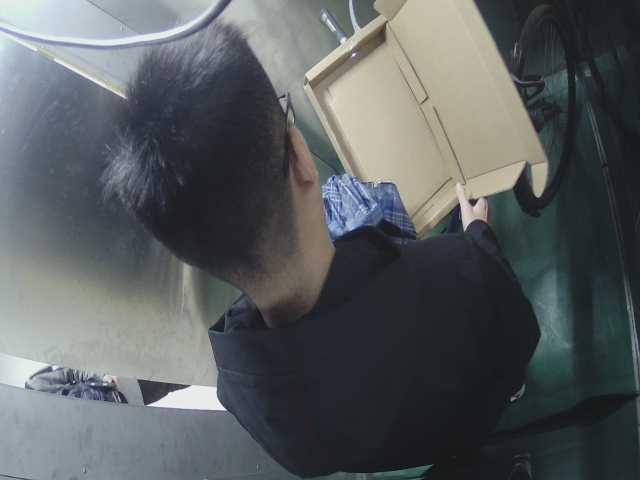bicycle: (303, 5, 608, 226)
person: (120, 36, 525, 466)
